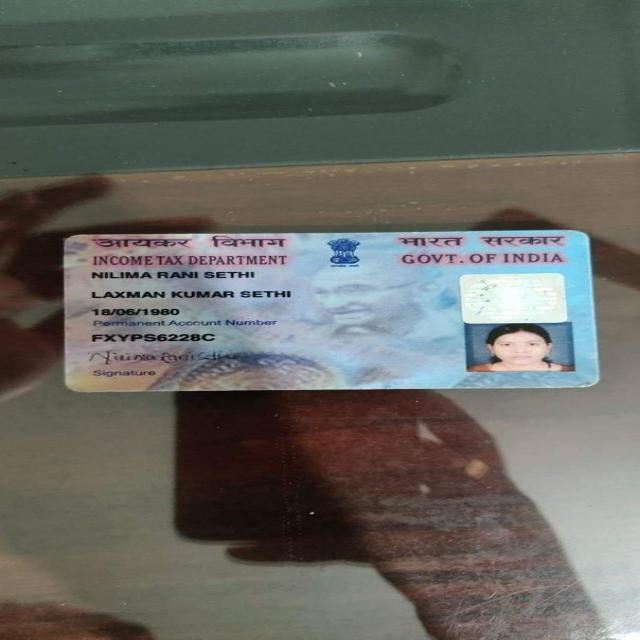pan_card: (58, 232, 602, 394)
